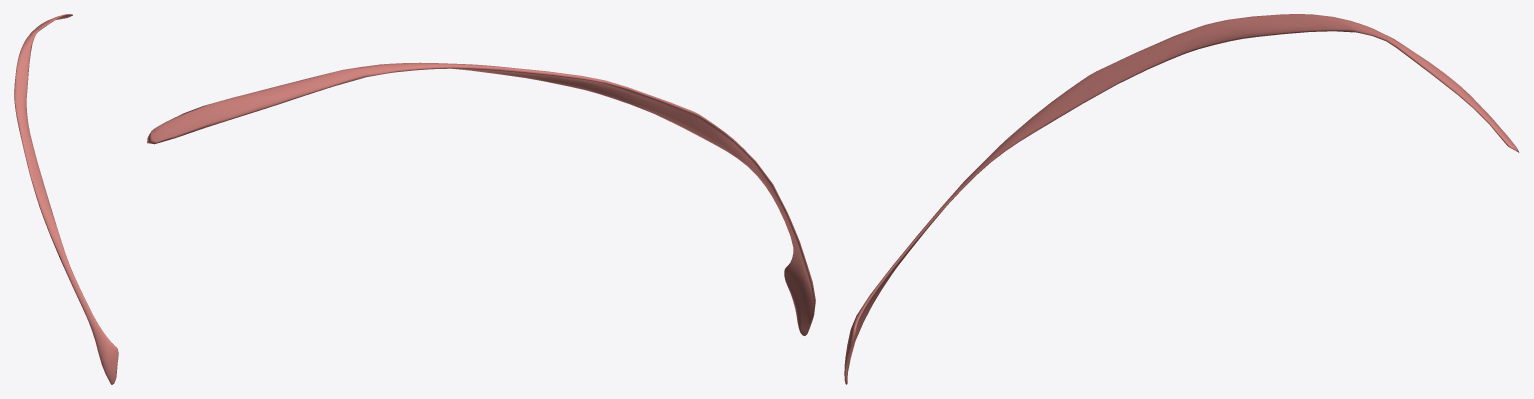
3 views of the same model, side by side, from view 1: azimuth 30°, elevation 25°; view 2: azimuth 150°, elevation 25°; view 3: azimuth 270°, elevation 25° (orthographic). The views are drawn at different scales.
Visible parts, largest first — view 1: ZA_ed9ab67aa649b9a9; view 2: ZA_ed9ab67aa649b9a9; view 3: ZA_ed9ab67aa649b9a9.
Part boxes in pixels (x1,y1,x2,y2): ZA_ed9ab67aa649b9a9: (14,14,118,384); ZA_ed9ab67aa649b9a9: (147,62,815,335); ZA_ed9ab67aa649b9a9: (844,14,1519,384).
Bounding box in the file's own units: 0.0527 × 0.0698 × 0.1042.
